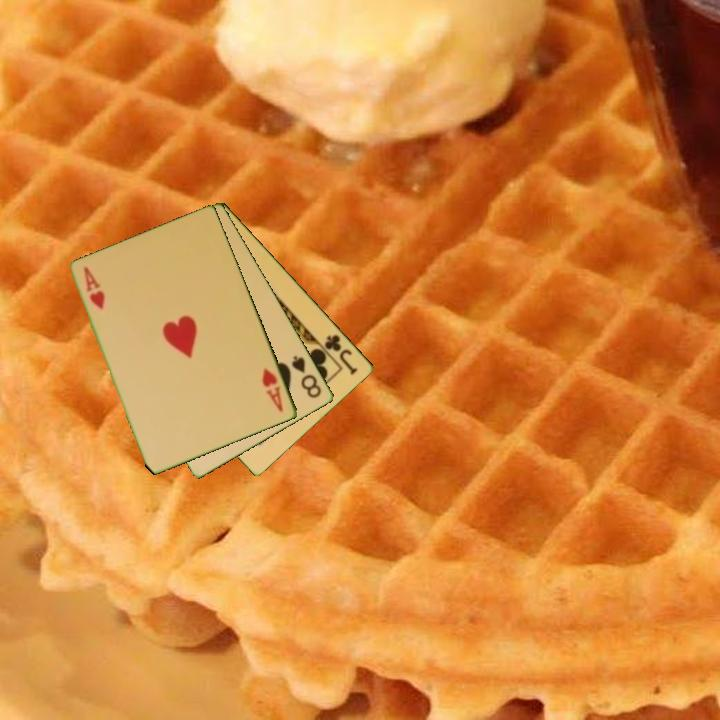8s: (288, 352, 325, 401)
Ah: (80, 263, 108, 313), (259, 365, 286, 415)
Jc: (321, 331, 361, 378)
